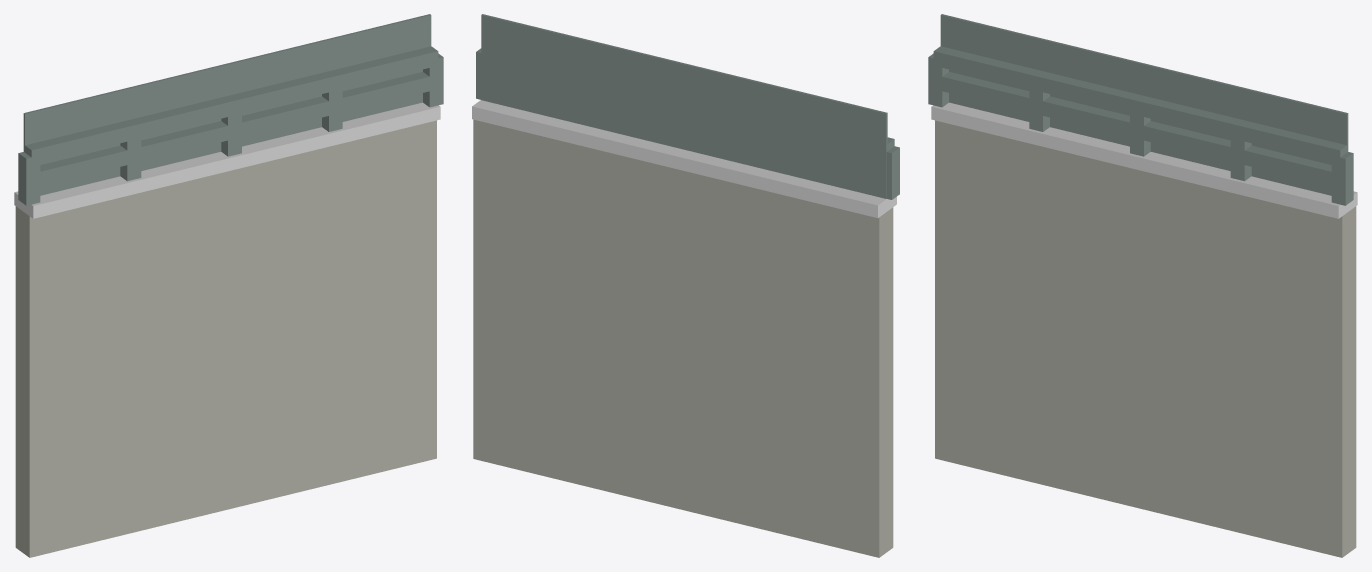
Rendered from SM_MuroTrinchera_Muro_v2_Malla_LOD1.fbx.
3 views of the same model, side by side, from view 1: azimuth 30°, elevation 25°; view 2: azimuth 150°, elevation 25°; view 3: azimuth 330°, elevation 25° (orthographic).
Parts seen in each view (by area): view 1: SM_muro_trinchera_v2_LOD1; view 2: SM_muro_trinchera_v2_LOD1; view 3: SM_muro_trinchera_v2_LOD1.
Part boxes in pixels (<box>): SM_muro_trinchera_v2_LOD1: <box>14,14,443,557</box>; SM_muro_trinchera_v2_LOD1: <box>472,14,899,557</box>; SM_muro_trinchera_v2_LOD1: <box>928,14,1357,557</box>.
Bounding box in the file's own units: 10.22 × 10.3 × 0.8.
